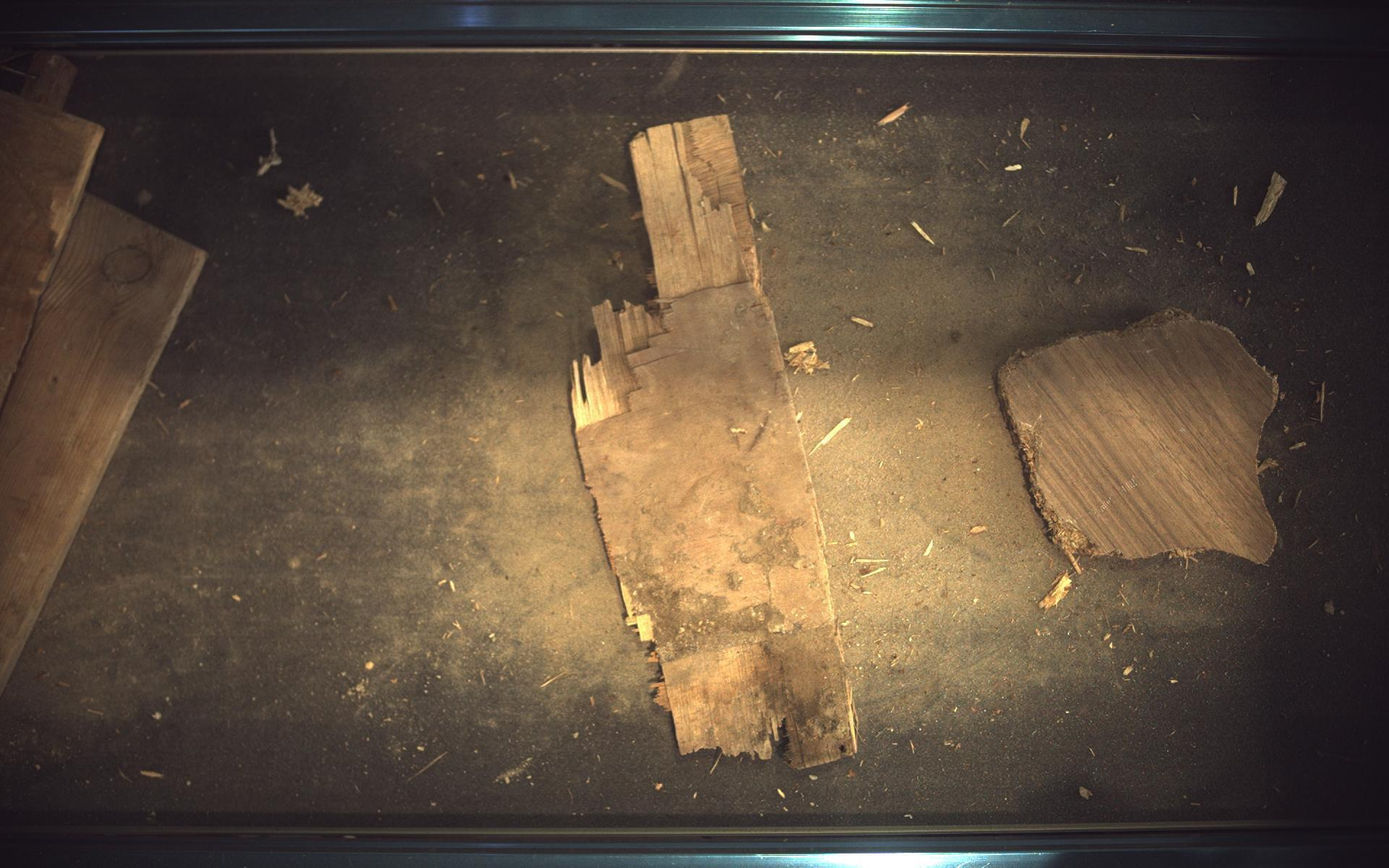wood: (572, 114, 858, 769), (1000, 309, 1282, 564)
